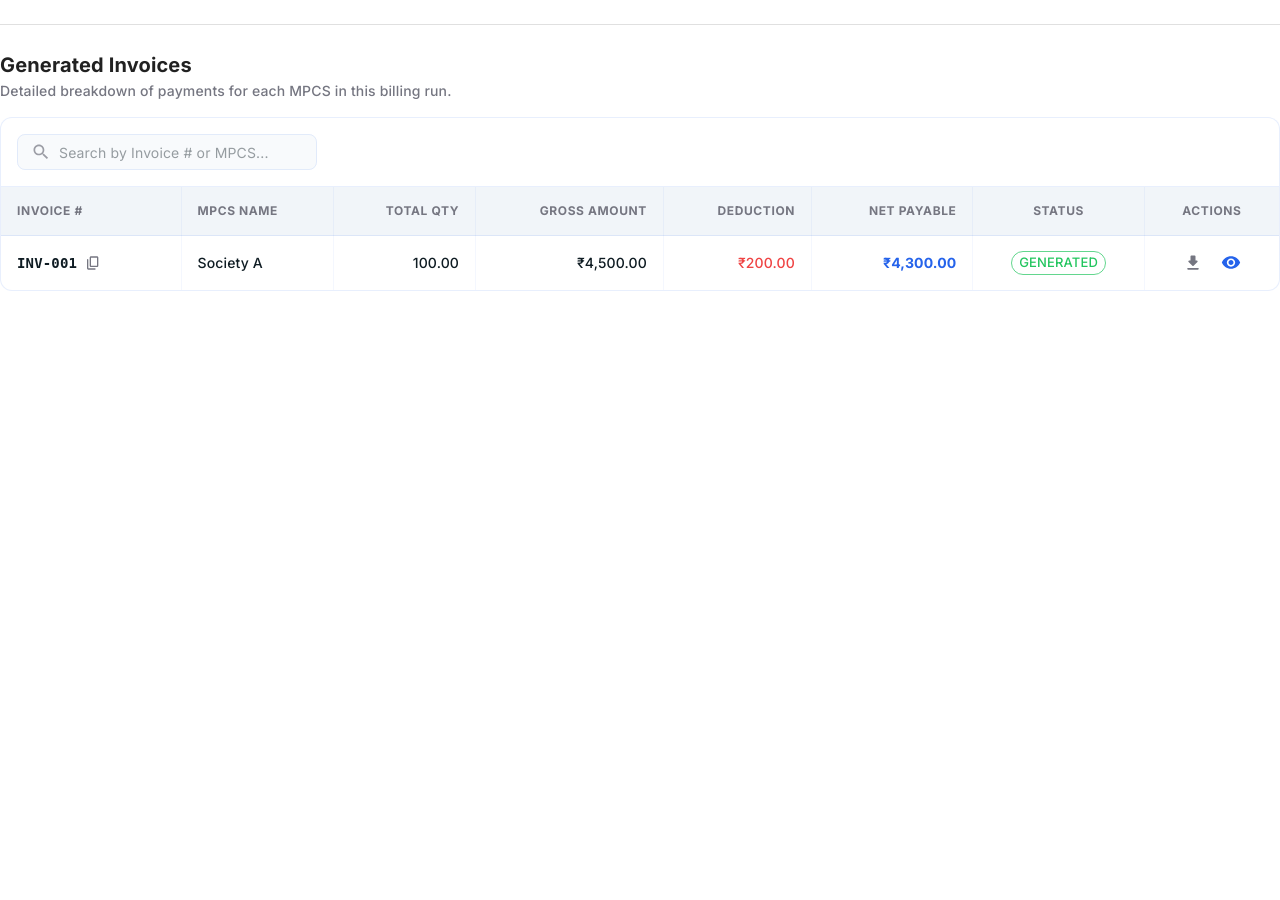
InvoiceTable › opens modal when view detail button is clicked
Click the button with test id "VisibilityRoundedIcon": (1231, 263) [1216,248,1246,278]
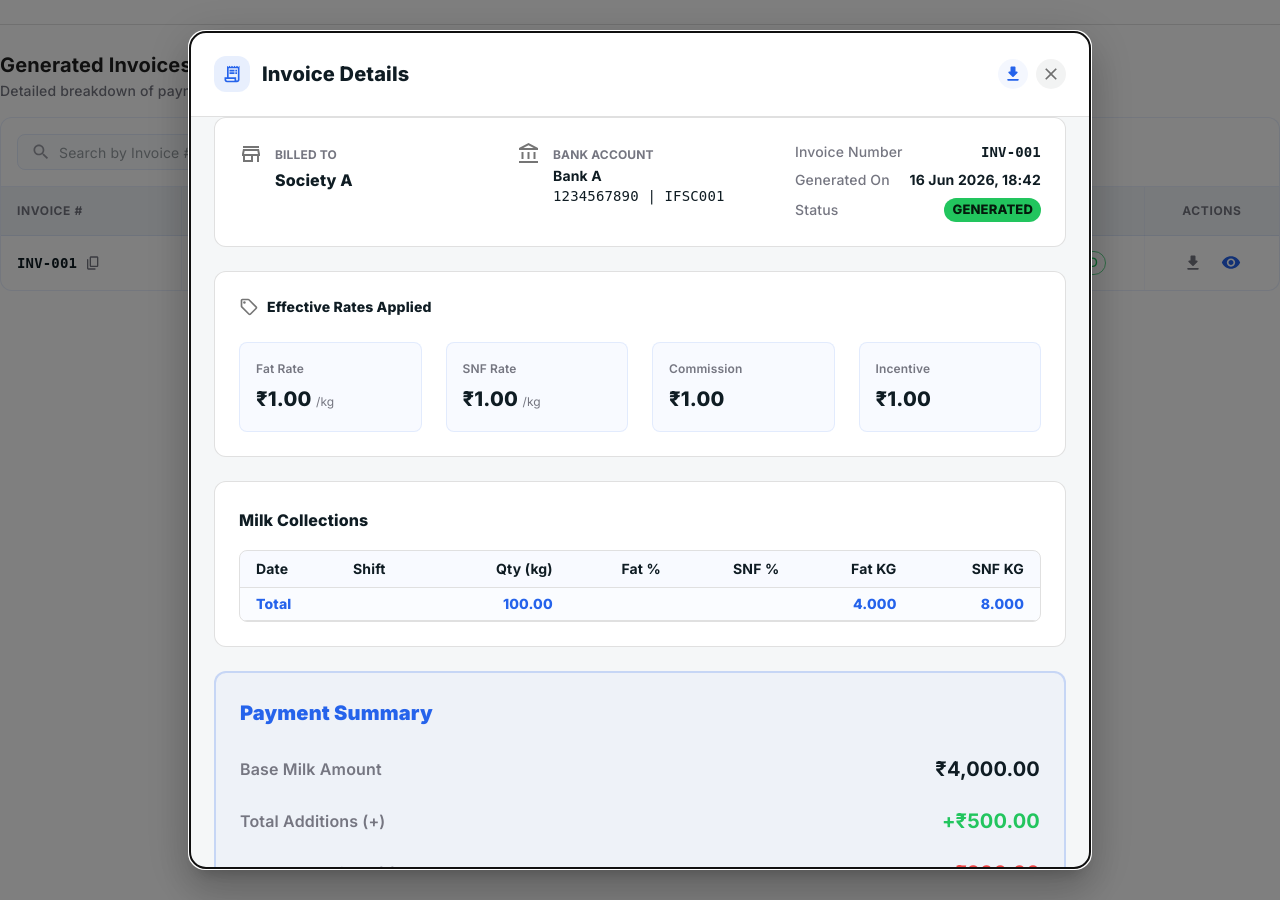
Expected: the heading "Invoice Details" is shown, [262,58,409,90]
